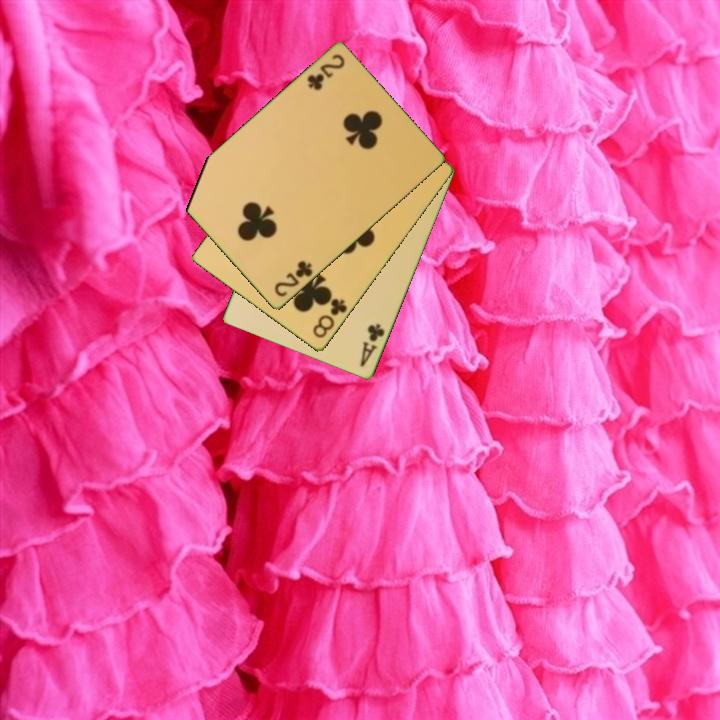2c: (271, 257, 316, 300), (303, 51, 348, 94)
8c: (309, 295, 350, 342)
Ac: (356, 320, 388, 370)
